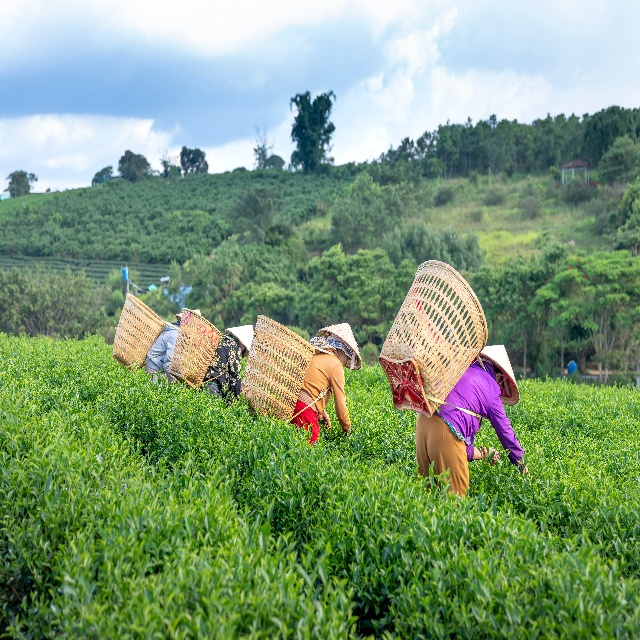Sin_guantes: (489, 448, 501, 465), (322, 409, 331, 431)
